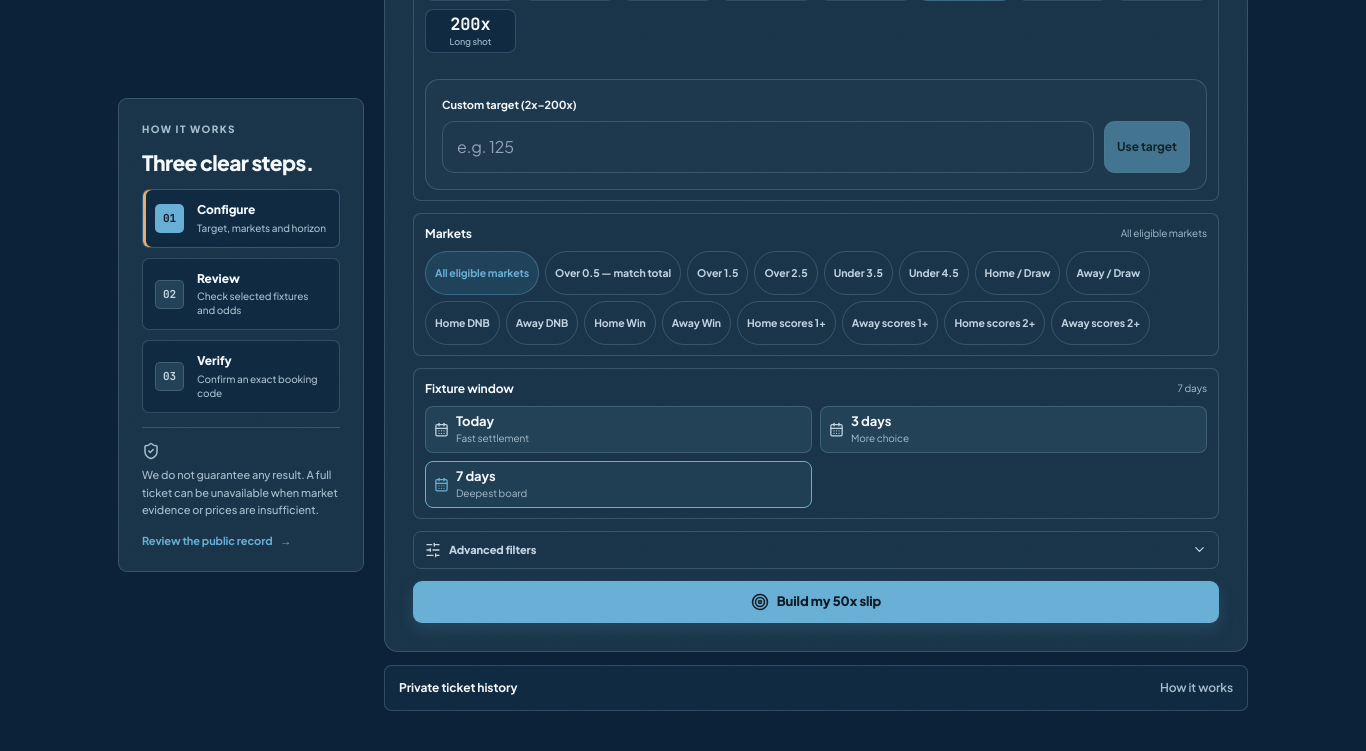
mobile Builder prioritizes mode selection and keeps privacy details accessible
This screenshot has width=1366, height=751.
(page scrolled)
Click the heading "Private ticket history How it works".
click(458, 687)  # box [399, 680, 1233, 695]
(page scrolled)
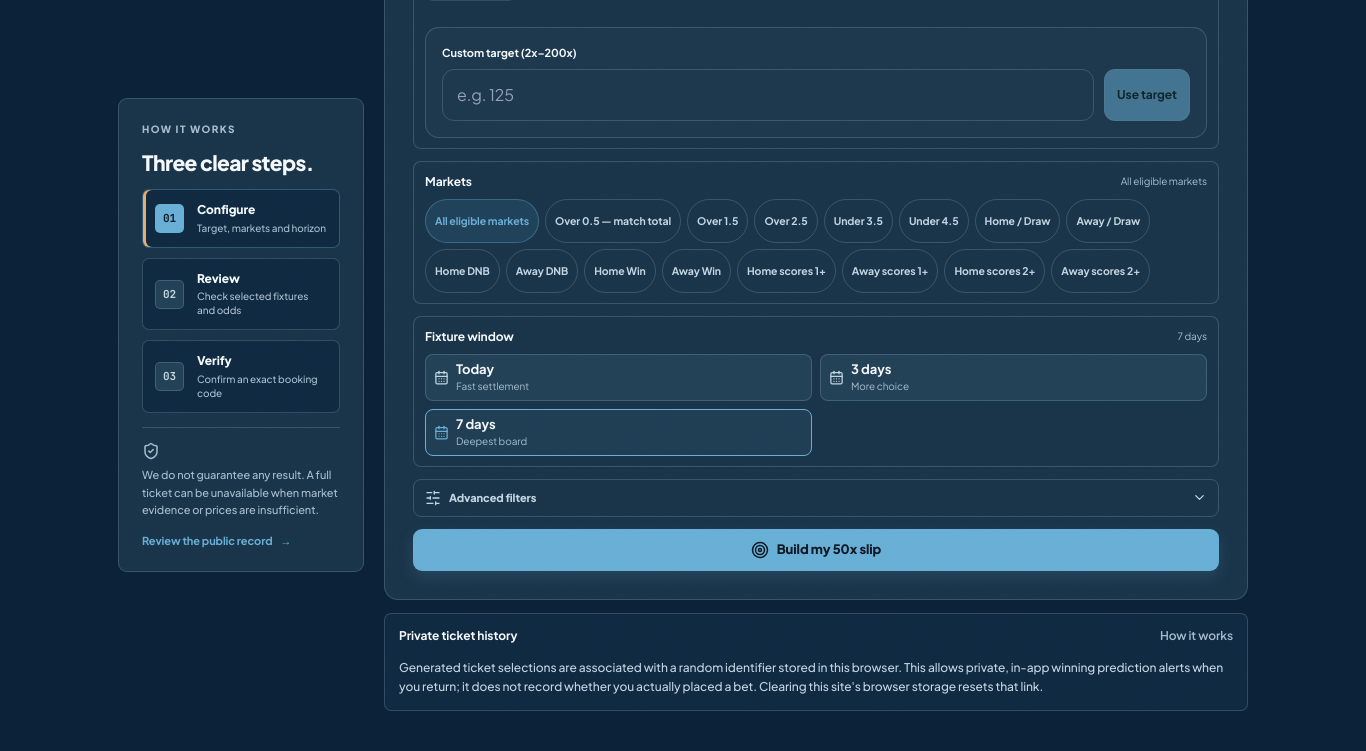
Now the text "does not record whether you actually" is shown, box [399, 660, 1223, 694]
